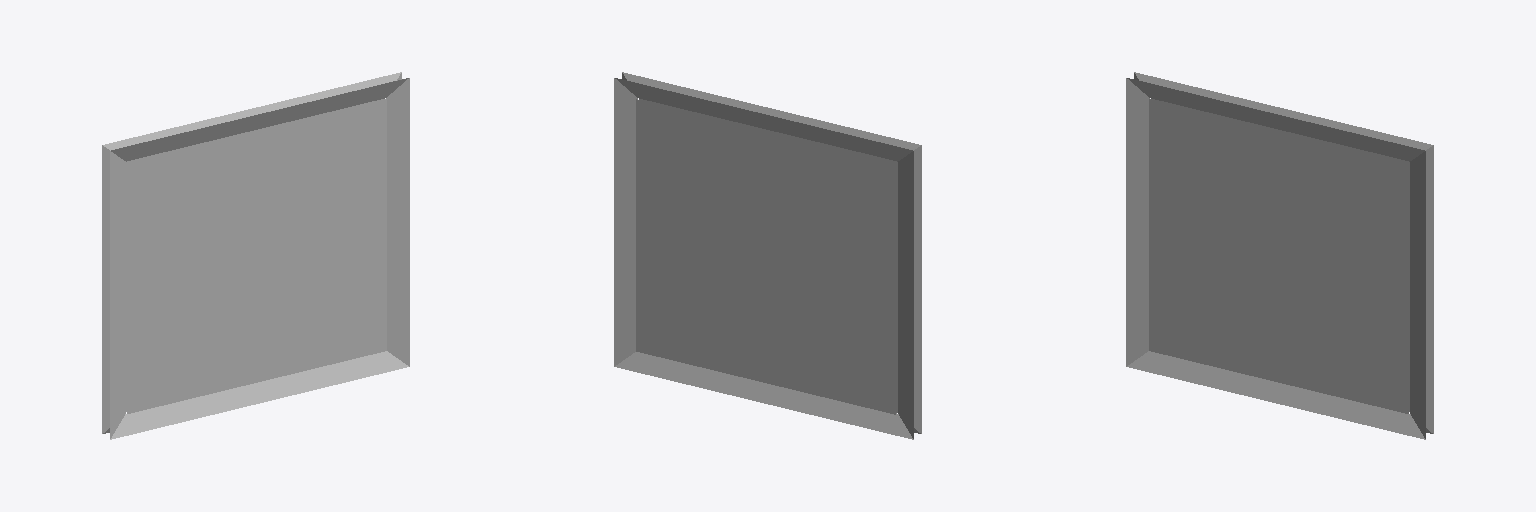
Rendered from Building_Window_LOD1.obj.
3 renders of one model, left to right at view 1: azimuth 30°, elevation 25°; view 2: azimuth 150°, elevation 25°; view 3: azimuth 330°, elevation 25°, orthographic.
Parts seen in each view (by area): view 1: Building_Window_LOD1 Building_Window; view 2: Building_Window_LOD1 Building_Window; view 3: Building_Window_LOD1 Building_Window.
Part boxes in pixels (bbox=[...]): Building_Window_LOD1 Building_Window: bbox=[102, 72, 409, 439]; Building_Window_LOD1 Building_Window: bbox=[614, 72, 921, 439]; Building_Window_LOD1 Building_Window: bbox=[1126, 72, 1433, 439].
Size of the model in its own units: 95.2 by 87.84 by 4.19.